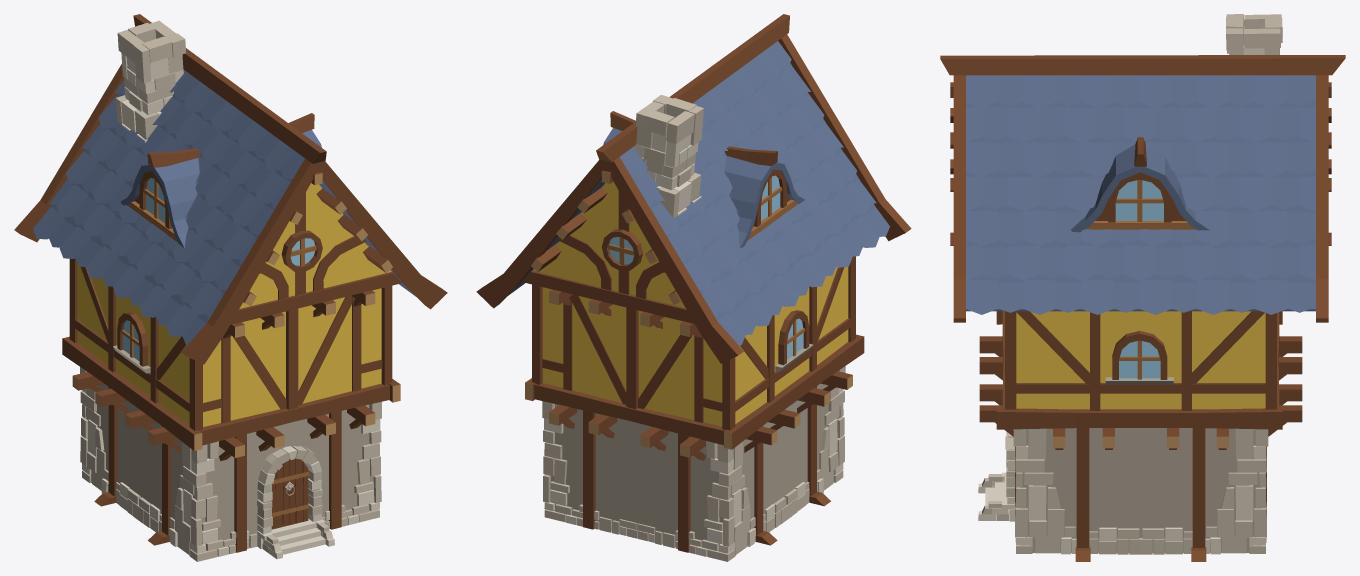
Rendered from cottage-a-yellow.glb.
3 renders of one model, left to right at view 1: azimuth 30°, elevation 25°; view 2: azimuth 150°, elevation 25°; view 3: azimuth 270°, elevation 25°, orthographic. The views are drawn at different scales.
Parts seen in each view (by area): view 1: House_1; view 2: House_1; view 3: House_1.
Boxes of the visible parts, x1=… form: House_1: x1=14, y1=14, x2=447, y2=561; House_1: x1=476, y1=14, x2=911, y2=561; House_1: x1=940, y1=14, x2=1345, y2=561.
Size of the model in its own units: 2.14 by 3.39 by 2.66.
